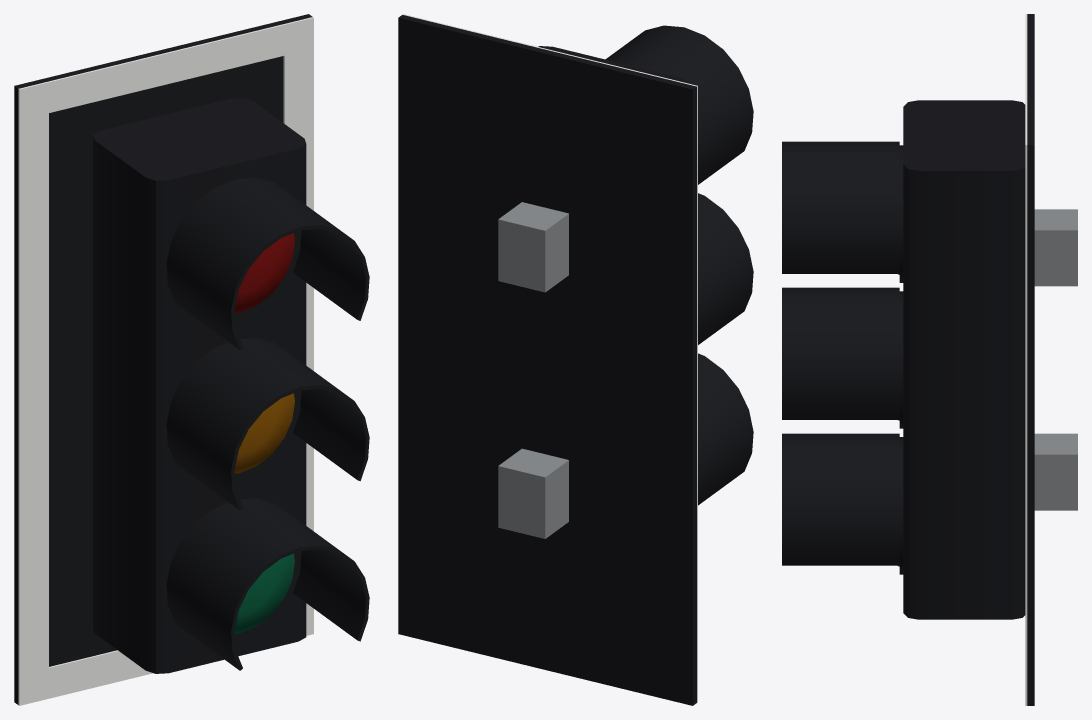
Rendered from traffic_signal_head.glb.
The picture shows the model from 3 angles, left to right: view 1: azimuth 30°, elevation 25°; view 2: azimuth 150°, elevation 25°; view 3: azimuth 270°, elevation 25°; orthographic projection. The views are drawn at different scales.
Parts seen in each view (by area): view 1: SignalHead, LensAmber, LensRed, LensGreen; view 2: SignalHead; view 3: SignalHead.
Part boxes in pixels (<box>): SignalHead: <box>14,14,369,705</box>; LensAmber: <box>234,393,294,473</box>; LensRed: <box>234,233,294,313</box>; LensGreen: <box>234,553,294,633</box>; SignalHead: <box>398,14,753,705</box>; SignalHead: <box>782,14,1077,705</box>.
Size of the model in its own units: 0.5 by 1 by 0.478.
